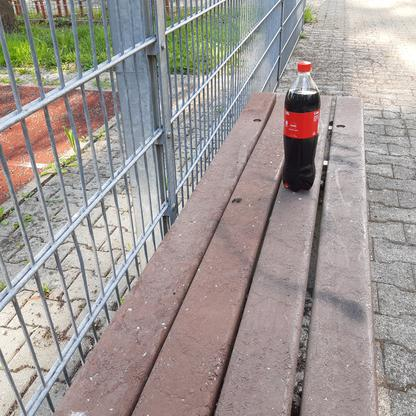coca-cola: (280, 60, 322, 193)
